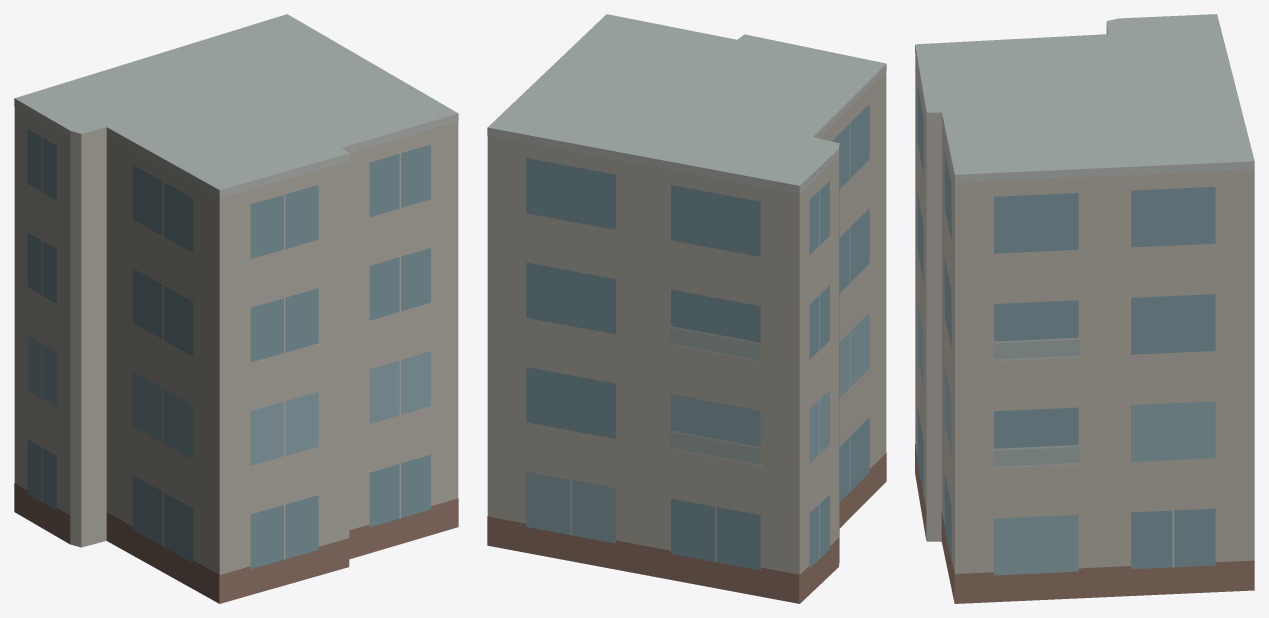
The model's file is survey-upis-33007287.glb.
The picture shows the model from 3 angles, left to right: view 1: azimuth 30°, elevation 25°; view 2: azimuth 150°, elevation 25°; view 3: azimuth 270°, elevation 25°; orthographic projection. The views are drawn at different scales.
Parts seen in each view (by area): view 1: survey-upis-33007287.tmp; view 2: survey-upis-33007287.tmp; view 3: survey-upis-33007287.tmp.
Part boxes in pixels (bbox=[...]): survey-upis-33007287.tmp: bbox=[14, 14, 458, 603]; survey-upis-33007287.tmp: bbox=[487, 14, 886, 603]; survey-upis-33007287.tmp: bbox=[915, 14, 1254, 603].
Bounding box in the file's own units: 10.21 × 12.7 × 9.12.
